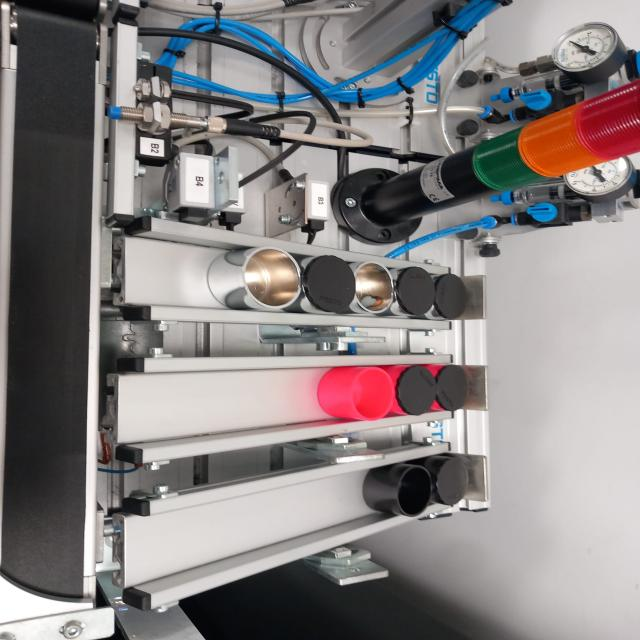NoLid: (210, 243, 304, 312), (364, 464, 434, 518), (324, 366, 394, 420), (353, 259, 398, 318)
Workpiece: (305, 249, 355, 316), (389, 362, 438, 417), (429, 452, 471, 512), (398, 262, 439, 320), (438, 266, 474, 320), (440, 362, 477, 410)
